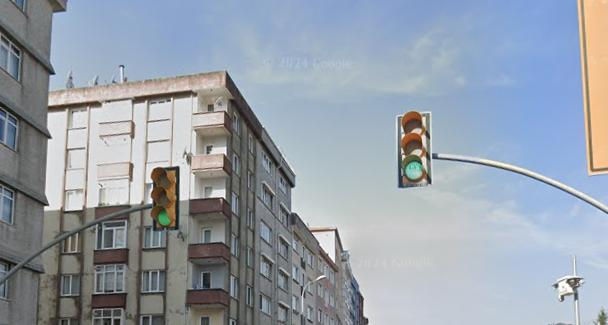greenlight: (396, 112, 433, 187), (151, 165, 180, 231)
